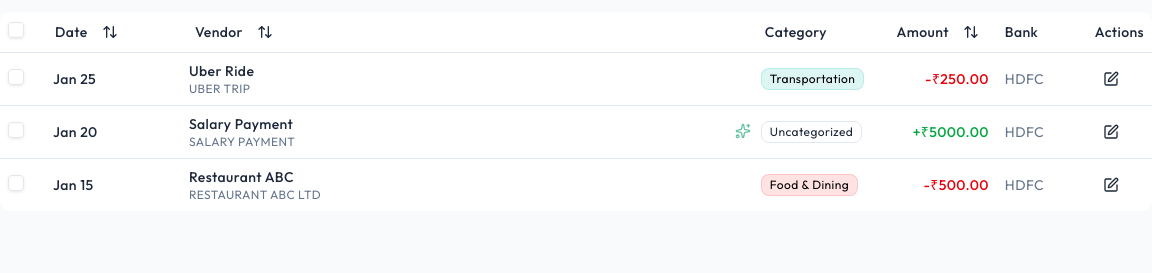
Test: TransactionList › selection › should select individual transactions
What coordinates should you click on to do the following:
click the checkbox named "Select transaction from Restaurant ABC"
I would click on:
 (16, 182)
Its box is [8,174,24,190].
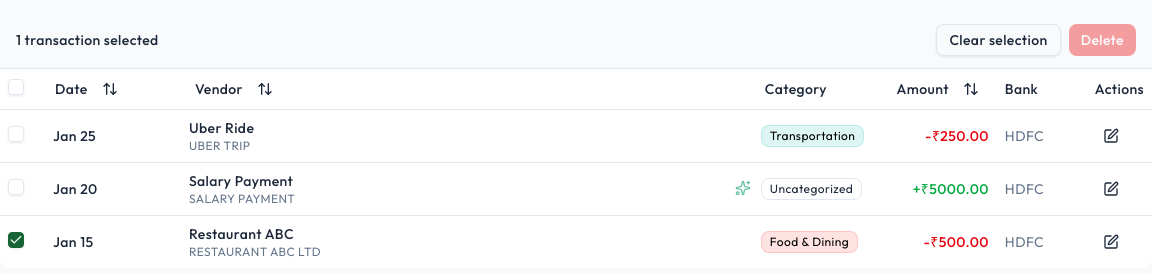
Result: the checkbox named "Select transaction from Restaurant ABC" is checked at [8,232,24,248]
Result: the text "1 transaction selected" is shown at [16,30,159,50]
